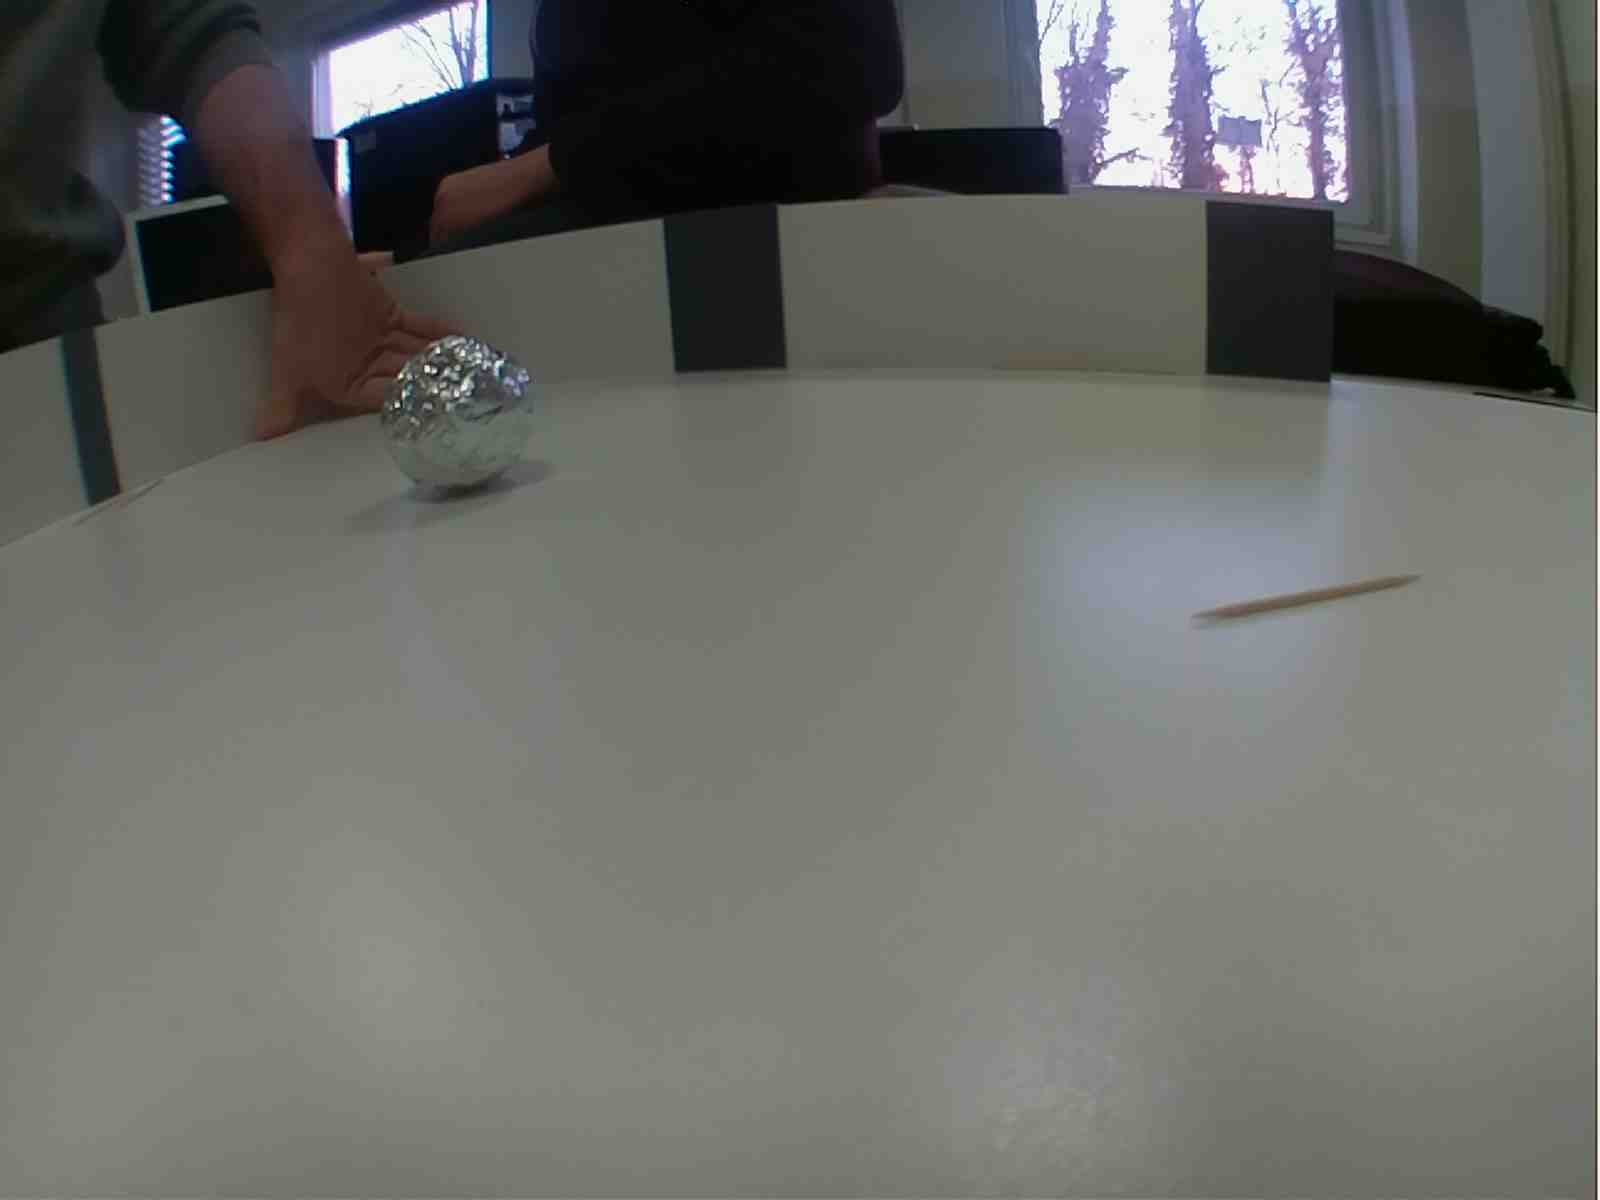bianca: (379, 342, 537, 504)
